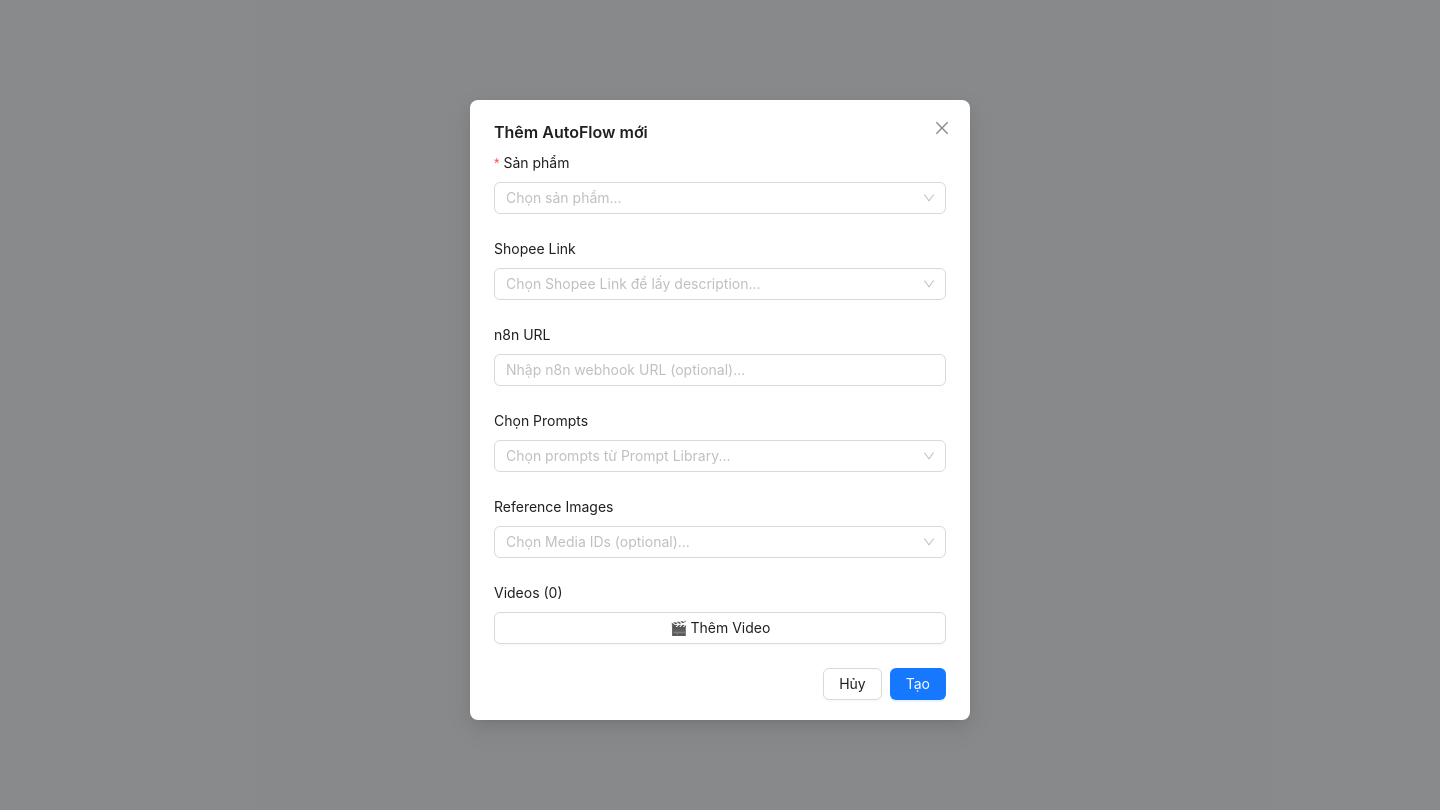
AutoFlowModal › filters out products that already have an autoflow
This screenshot has width=1440, height=810.
Press the mouse on the dropdown labelled "Sản phẩm" at point(711, 198), box [506,183,916,213]
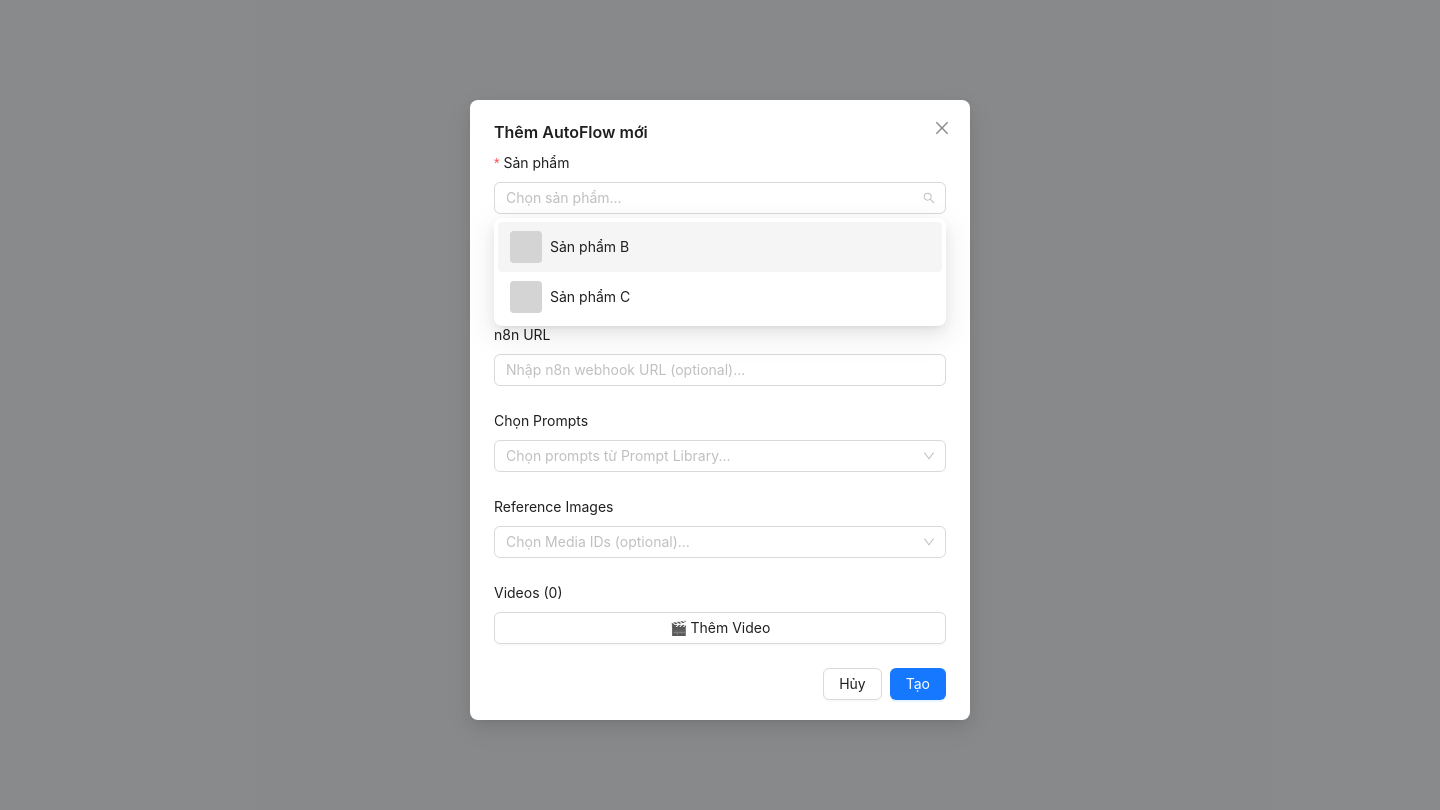
expect the element titled "Sản phẩm B" is shown: met, box [498,222,942,272]
expect the element titled "Sản phẩm C" is shown: met, box [510,281,630,313]
